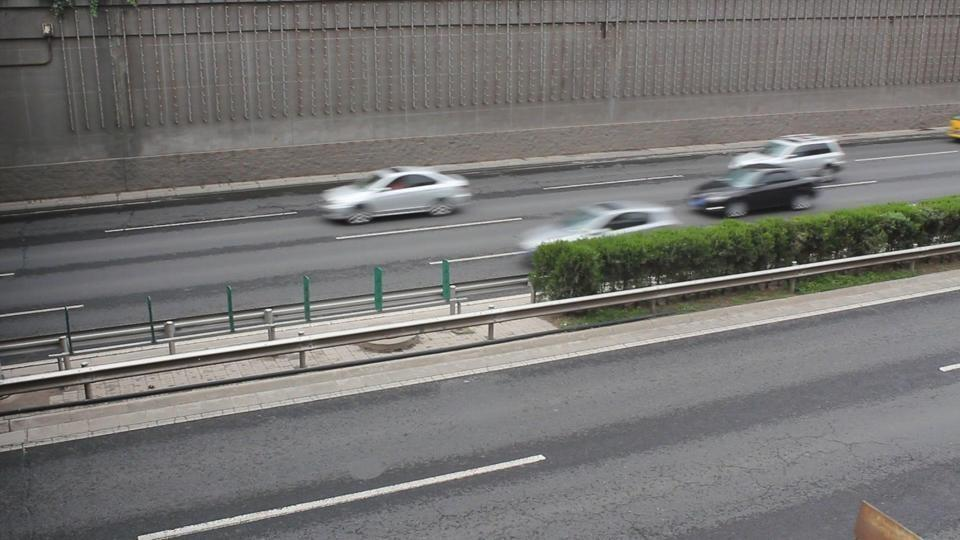car: (514, 201, 680, 259), (318, 166, 474, 225), (687, 164, 818, 218), (729, 135, 848, 181), (945, 115, 960, 142)
